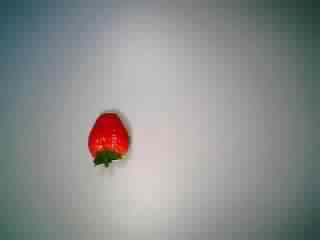strawberry: (73, 105, 141, 169)
